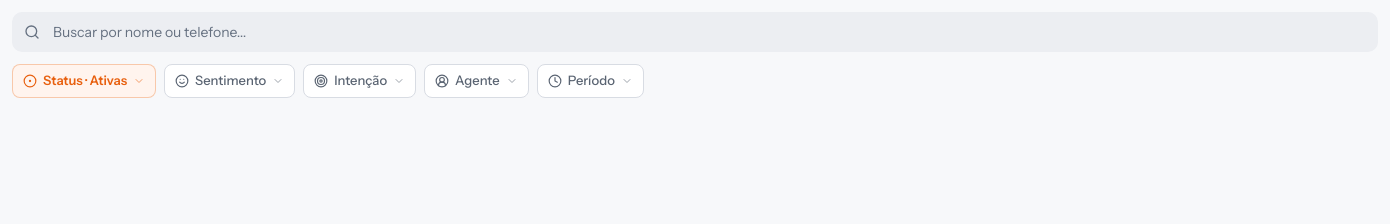
it: ConversationFiltersCompact — chip-trigger › chip Agente lista os agentes passados via prop
This screenshot has width=1390, height=224.
Click the button "Agente". click: click(476, 81)
box: [424,64,529,98]
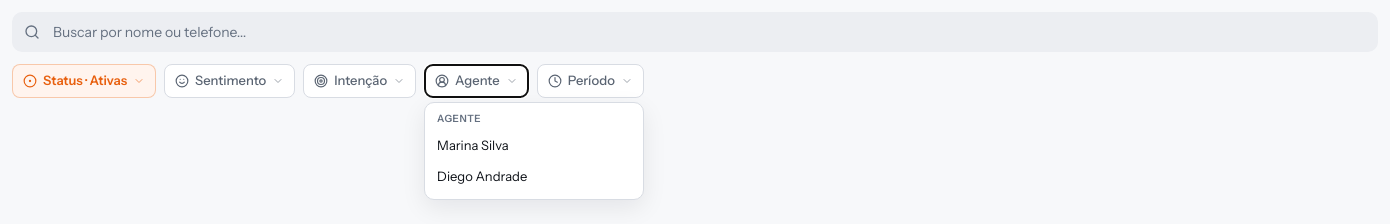
Now the button "Marina Silva" is shown, box [425,130,643,161]
Now the button "Diego Andrade" is shown, box [425,161,643,192]
